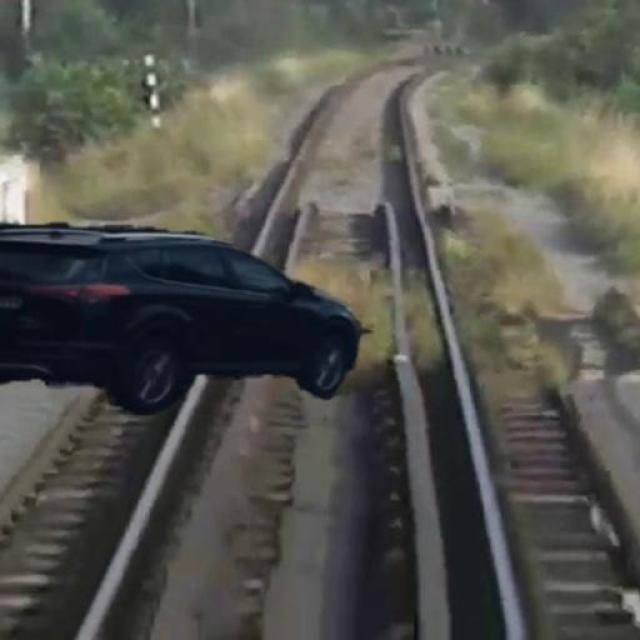vehicle: (1, 217, 372, 416)
